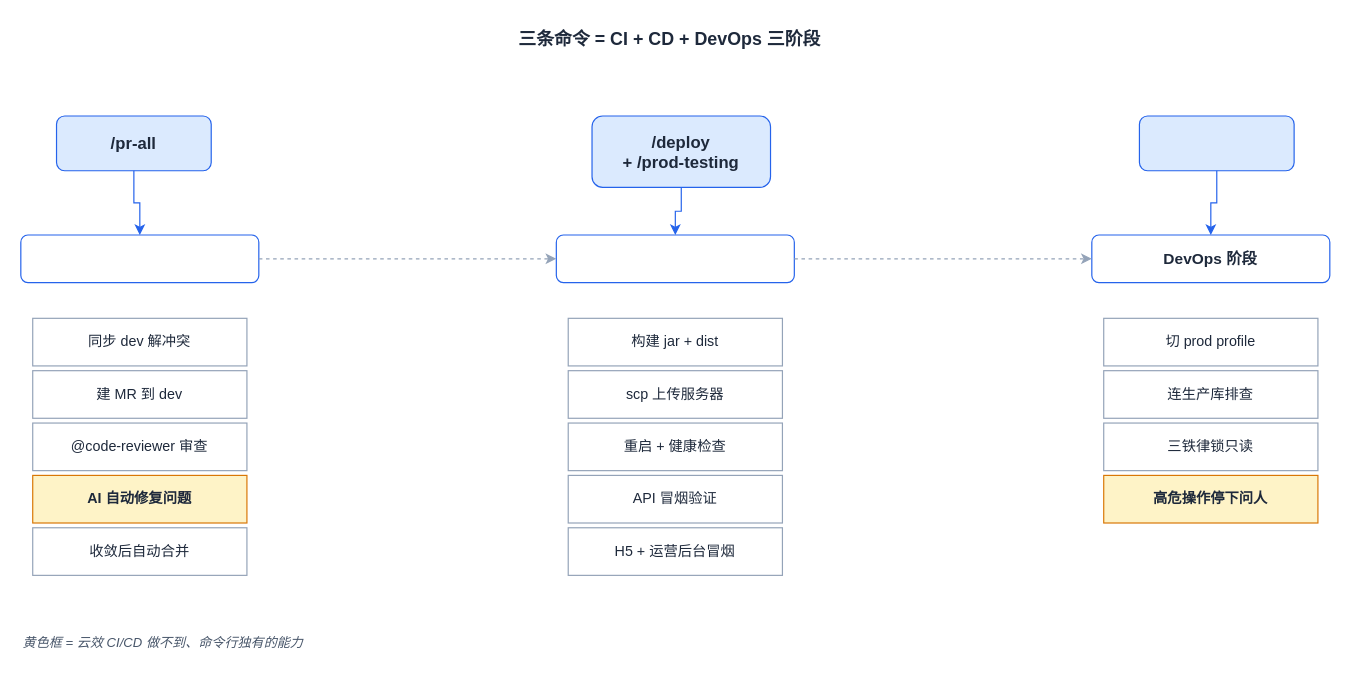
Image size: 1351x689. Some labels were removed from this diagram. The shapes that lost their labels are listed below. From the top down, each one's centre as x and y in pixels, then its label:
[1216,143]: /prod-debug
[139,258]: CI 阶段
[674,258]: CD 阶段
